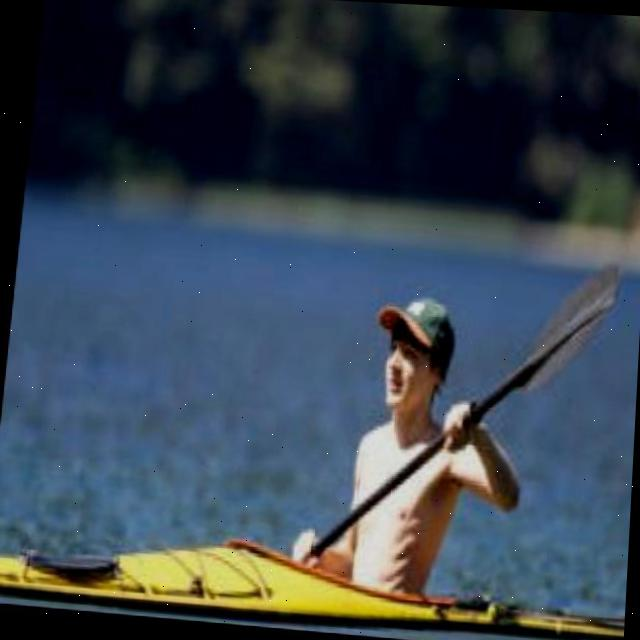kayak: (0, 543, 625, 640)
